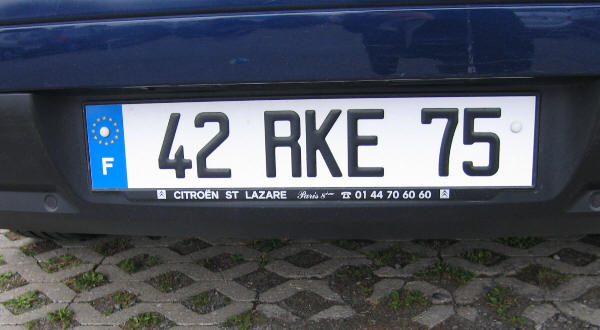license_plate: (84, 93, 538, 193)
